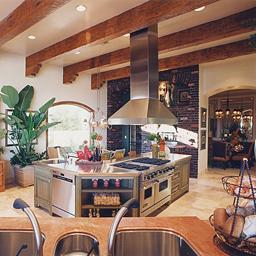Electrodomestico: (143, 170, 171, 211), (52, 172, 76, 219), (35, 167, 53, 211)
Lavaplatos: (5, 195, 198, 255)
Matera: (3, 90, 36, 186)
Ventana: (49, 105, 92, 145)
